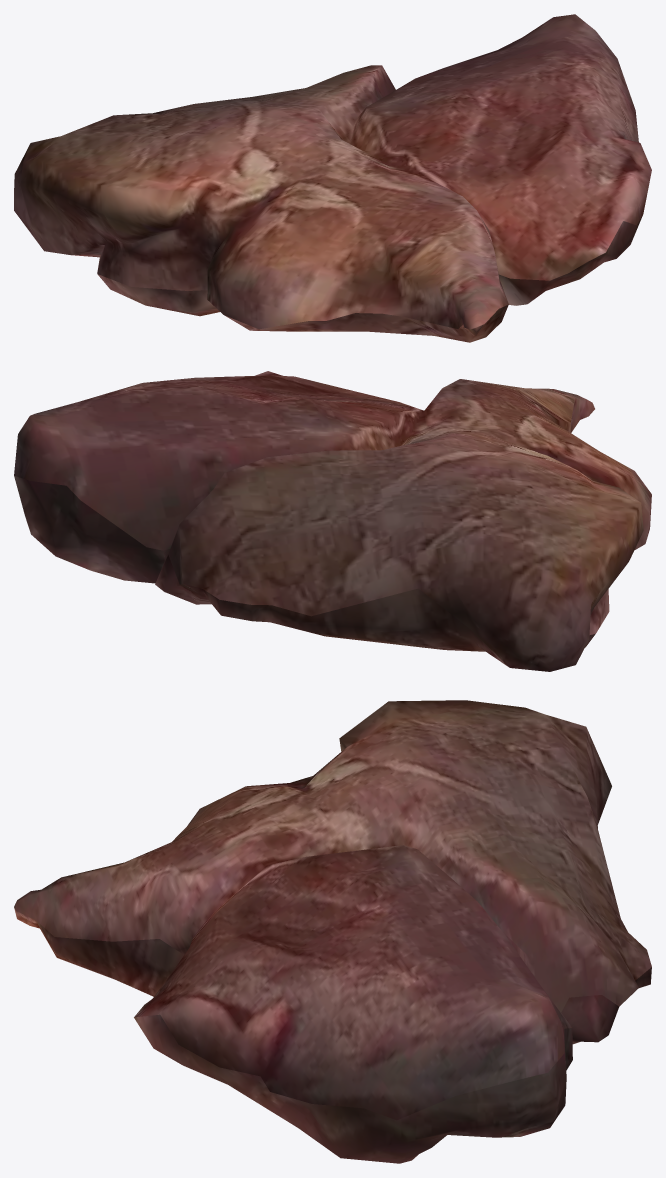
The model's file is meat.wolf.raw.worldmodel.glb.
3 renders of one model, top to bottom at view 1: azimuth 30°, elevation 25°; view 2: azimuth 150°, elevation 25°; view 3: azimuth 270°, elevation 25°, orthographic. The views are drawn at different scales.
Visible parts, largest first — view 1: wolf_meat_LOD0; view 2: wolf_meat_LOD0; view 3: wolf_meat_LOD0.
Part boxes in pixels (x1,y1,x2,y2): wolf_meat_LOD0: (14,14,651,342); wolf_meat_LOD0: (14,371,651,671); wolf_meat_LOD0: (14,700,651,1163).
Bounding box in the file's own units: 0.3932 × 0.1274 × 0.3304.
Materials: 1 (1 with a texture image).
